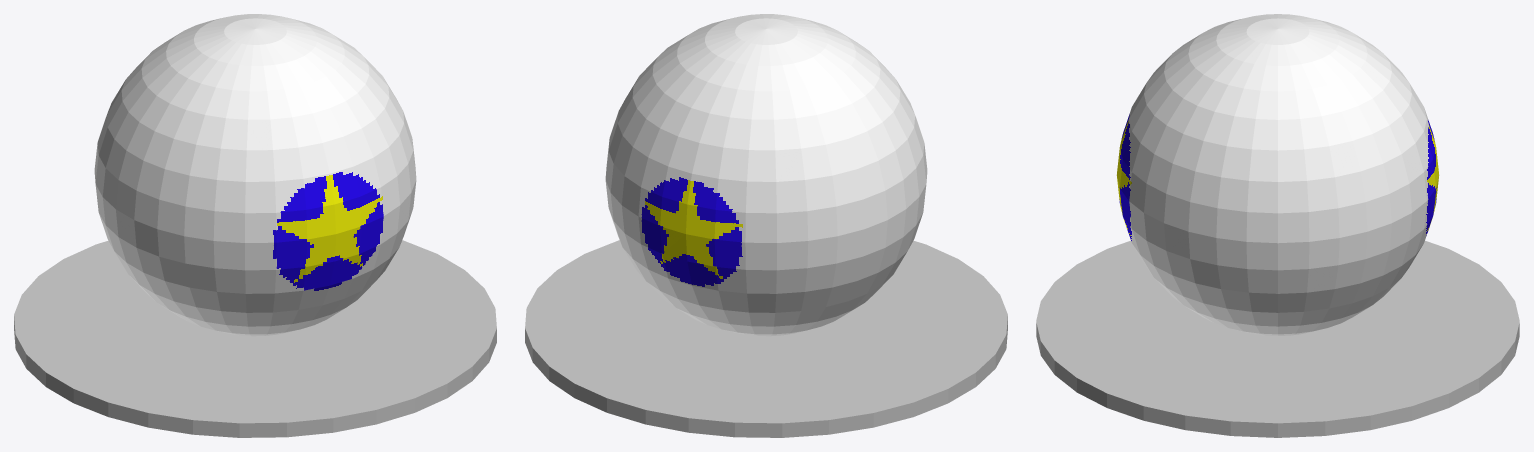
File: Switch.obj
3 views of the same model, side by side, from view 1: azimuth 30°, elevation 25°; view 2: azimuth 150°, elevation 25°; view 3: azimuth 270°, elevation 25° (orthographic).
Parts seen in each view (by area): view 1: Sphere; view 2: Sphere; view 3: Sphere.
Part boxes in pixels (x1,y1,x2,y2): Sphere: [14, 14, 496, 437]; Sphere: [525, 14, 1007, 437]; Sphere: [1036, 14, 1519, 437].
Bounding box in the file's own units: 15 × 10.5 × 15.
